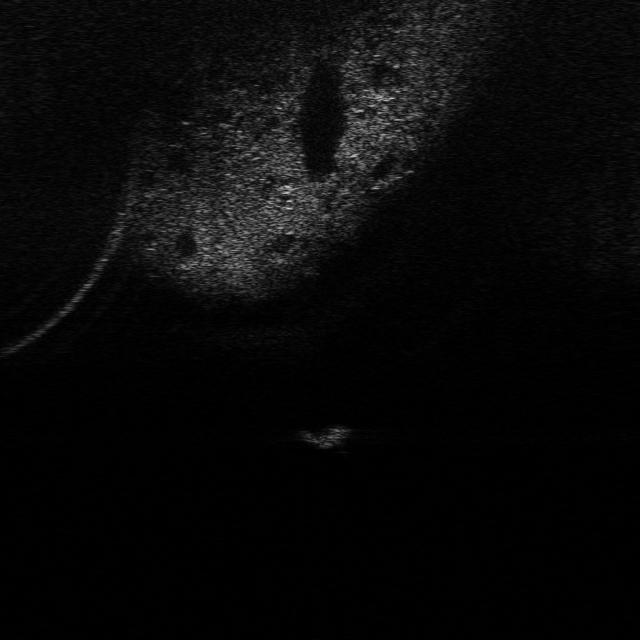cube: (296, 420, 356, 453)
